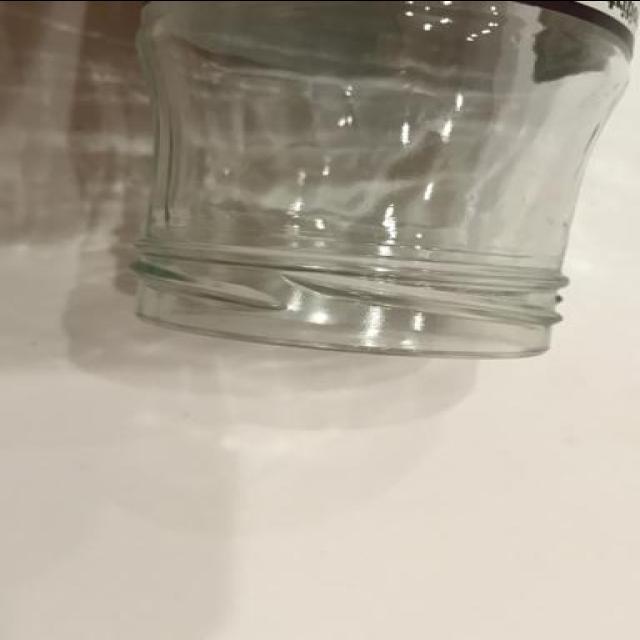glass: (137, 0, 638, 360)
